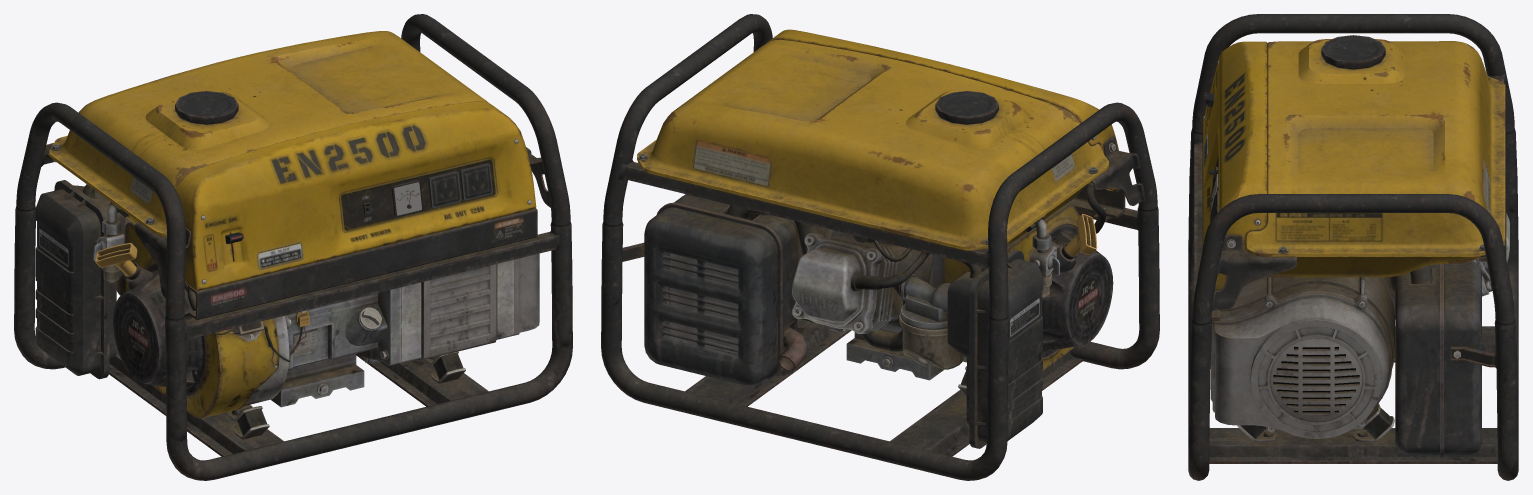
3 renders of one model, left to right at view 1: azimuth 30°, elevation 25°; view 2: azimuth 150°, elevation 25°; view 3: azimuth 270°, elevation 25°, orthographic.
Parts seen in each view (by area): view 1: portable_generator; view 2: portable_generator; view 3: portable_generator.
Boxes of the visible parts, <box> form: portable_generator: <box>14,14,572,480</box>; portable_generator: <box>601,14,1159,480</box>; portable_generator: <box>1188,14,1518,480</box>.
Bounding box in the file's own units: 0.8183 × 0.5769 × 0.564.
Materials: 2 (2 with a texture image).
